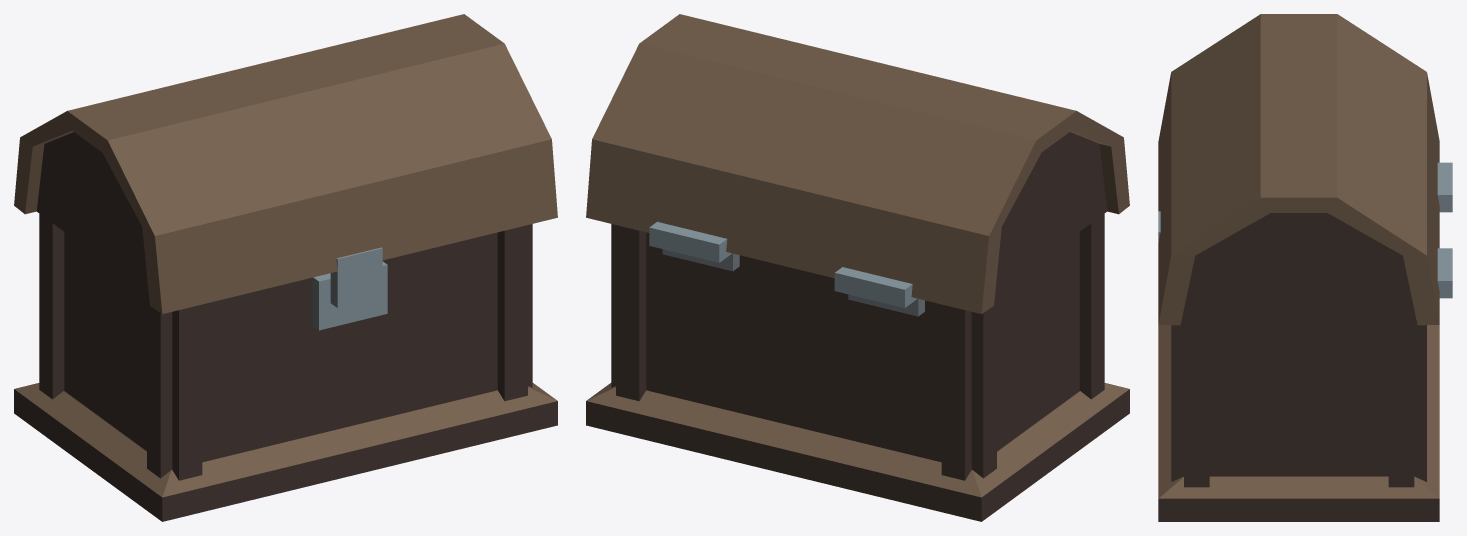
The model's file is Chest.glb.
3 renders of one model, left to right at view 1: azimuth 30°, elevation 25°; view 2: azimuth 150°, elevation 25°; view 3: azimuth 270°, elevation 25°, orthographic. The views are drawn at different scales.
Visible parts, largest first — view 1: mLid, mChest; view 2: mLid, mChest; view 3: mLid, mChest.
Part boxes in pixels (x1,y1,x2,y2): mLid: (14,14,557,313); mChest: (14,214,557,521); mLid: (586,14,1129,313); mChest: (586,214,1129,521); mLid: (1158,14,1452,325); mChest: (1158,320,1439,521).
Size of the model in its own units: 3.4 by 2.8 by 2.3.
1 material, 1 textured.
